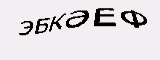Б: (34, 16, 49, 34)
Е: (94, 7, 118, 27)
К: (48, 12, 65, 34)
Ф: (120, 8, 148, 29)
Э: (18, 19, 33, 37)
Ә: (66, 9, 90, 29)
